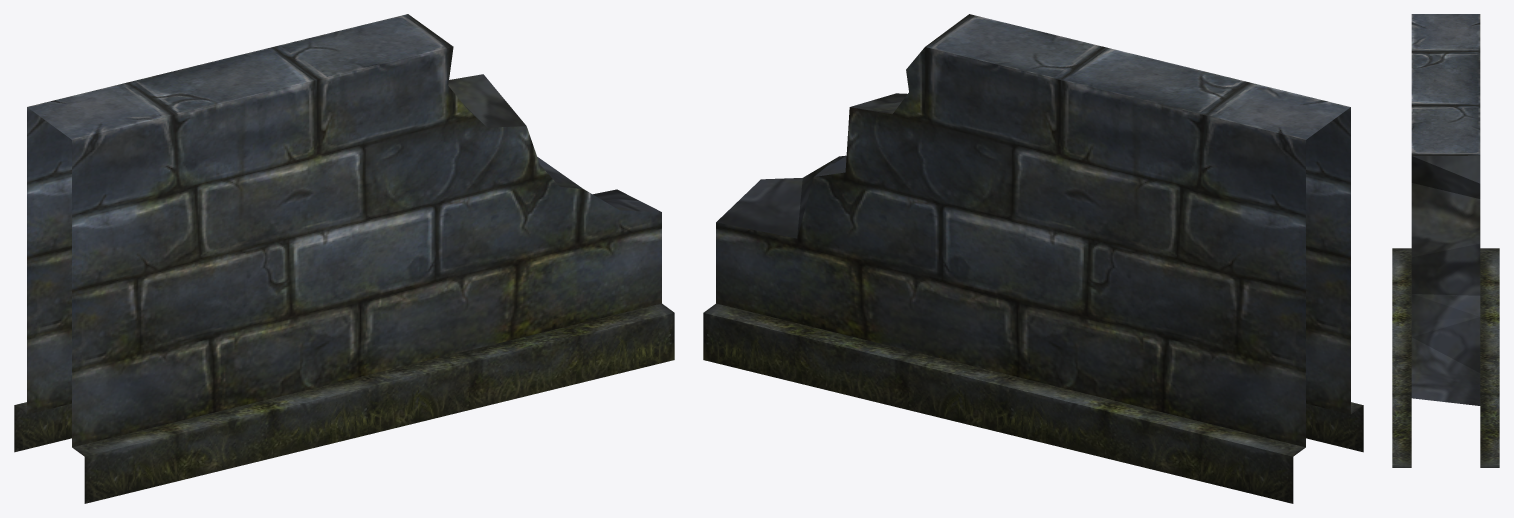
File: C_qiang004.fbx
The picture shows the model from 3 angles, left to right: view 1: azimuth 30°, elevation 25°; view 2: azimuth 150°, elevation 25°; view 3: azimuth 270°, elevation 25°; orthographic projection. The views are drawn at different scales.
Parts seen in each view (by area): view 1: C_qiang004; view 2: C_qiang004; view 3: C_qiang004.
Boxes of the visible parts, bbox=[...] form: C_qiang004: bbox=[14, 14, 674, 503]; C_qiang004: bbox=[703, 14, 1363, 503]; C_qiang004: bbox=[1392, 14, 1499, 467].
Bounding box in the file's own units: 361 × 208 × 74.74.
